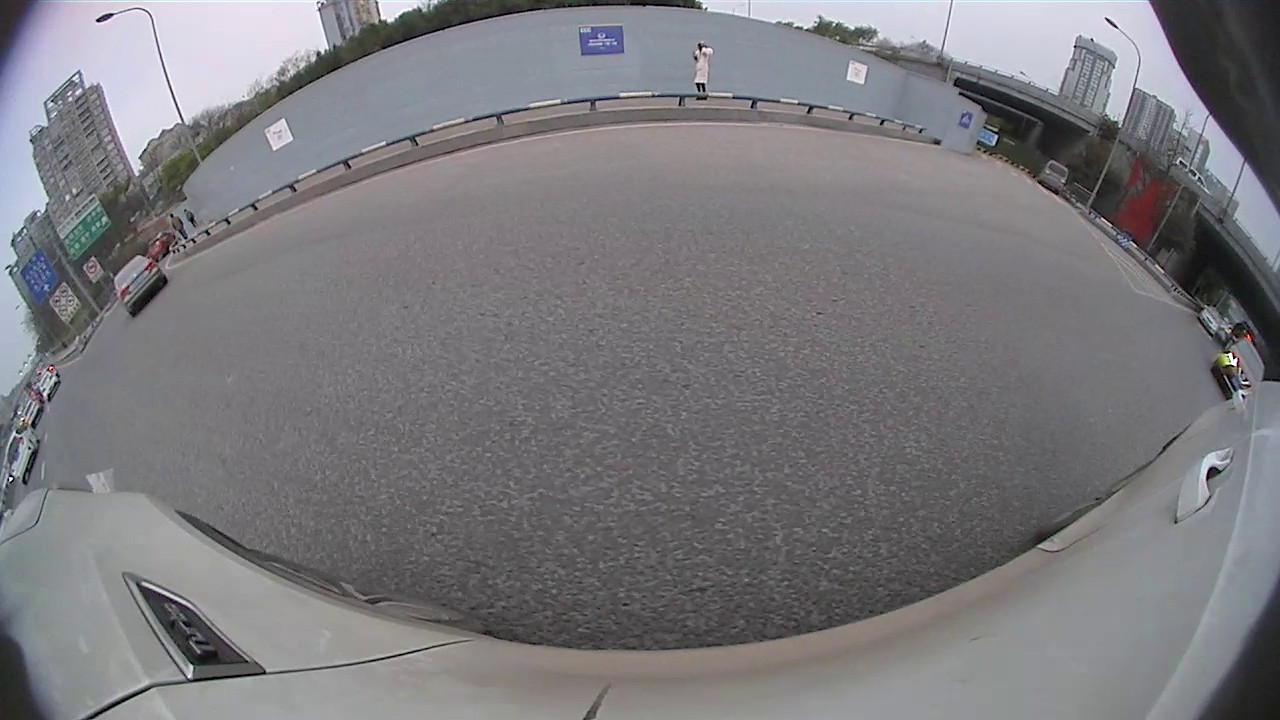car: (112, 254, 169, 318), (1210, 337, 1266, 400), (3, 425, 41, 486), (1036, 159, 1069, 196), (1198, 303, 1226, 337), (37, 366, 62, 401), (22, 398, 45, 429)
person: (694, 40, 708, 93), (170, 213, 182, 239)
